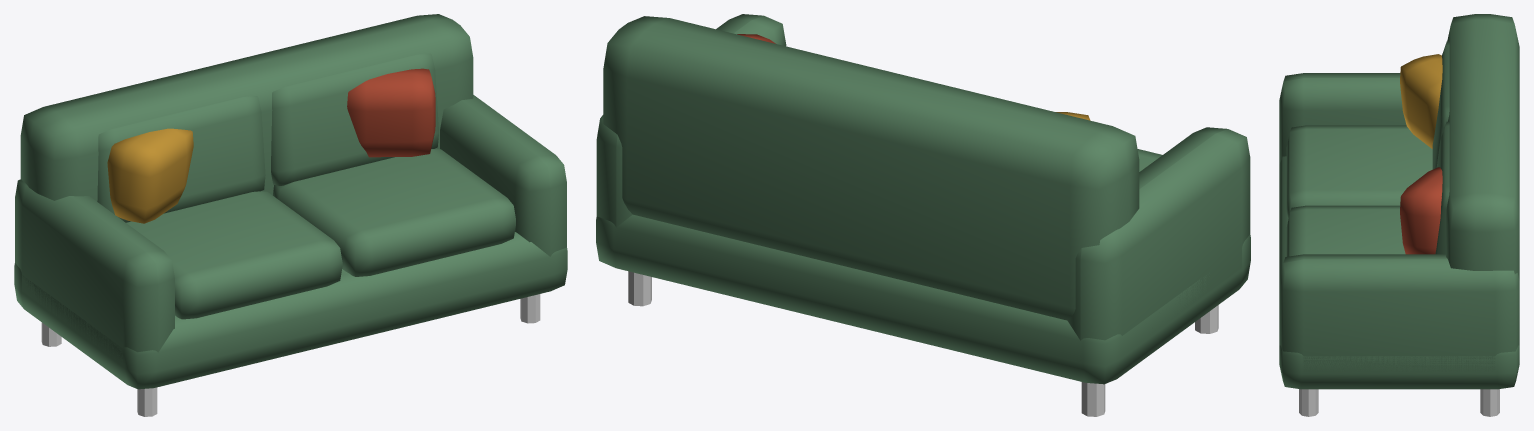
The model's file is sofa2-green.glb.
3 renders of one model, left to right at view 1: azimuth 30°, elevation 25°; view 2: azimuth 150°, elevation 25°; view 3: azimuth 270°, elevation 25°, orthographic. The views are drawn at different scales.
Visible parts, largest first — view 1: sofa2-green; view 2: sofa2-green; view 3: sofa2-green.
Boxes of the visible parts, left/top/right/bottom form: sofa2-green: left=14, top=14, right=567, bottom=416; sofa2-green: left=596, top=14, right=1250, bottom=416; sofa2-green: left=1279, top=14, right=1519, bottom=416.
Bounding box in the file's own units: 2.24 × 1.13 × 1.13.
